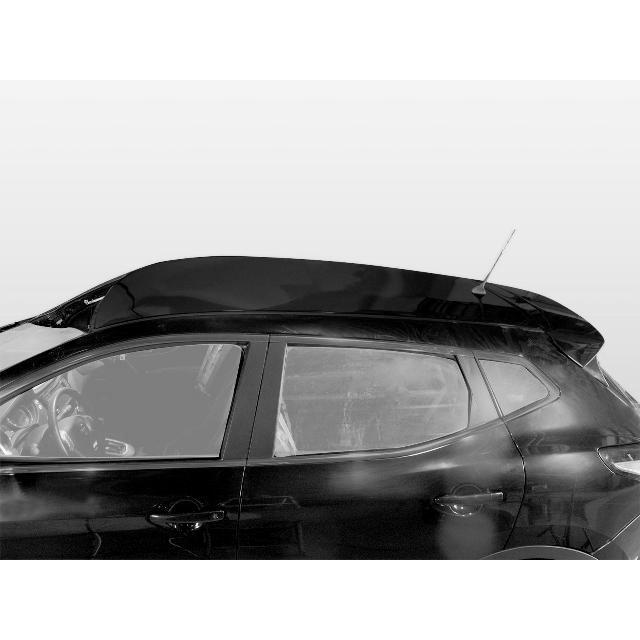roof-dent: (12, 256, 463, 362)
